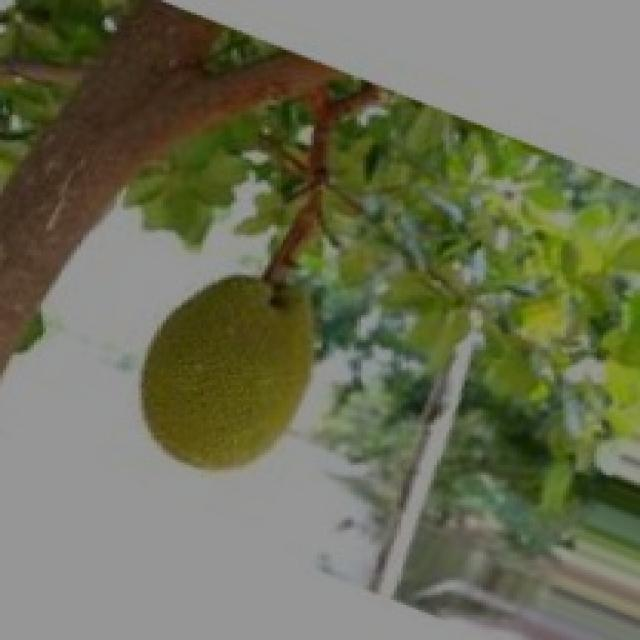Fruit: (111, 250, 354, 505)
